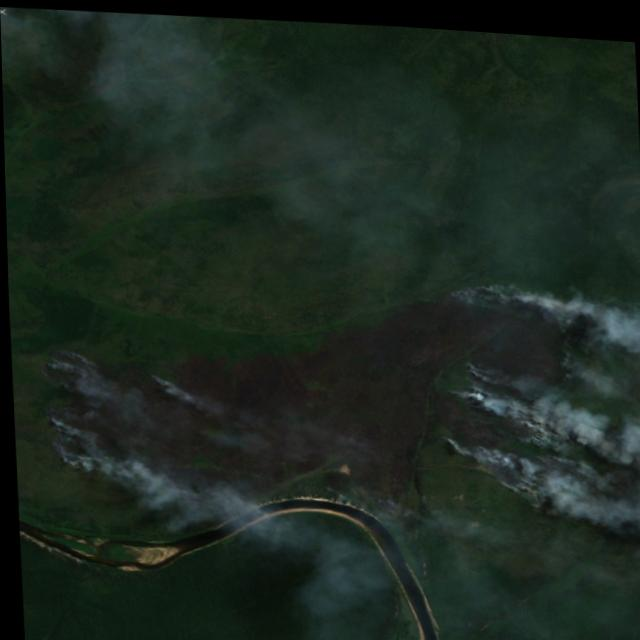fire: (16, 229, 601, 537)
